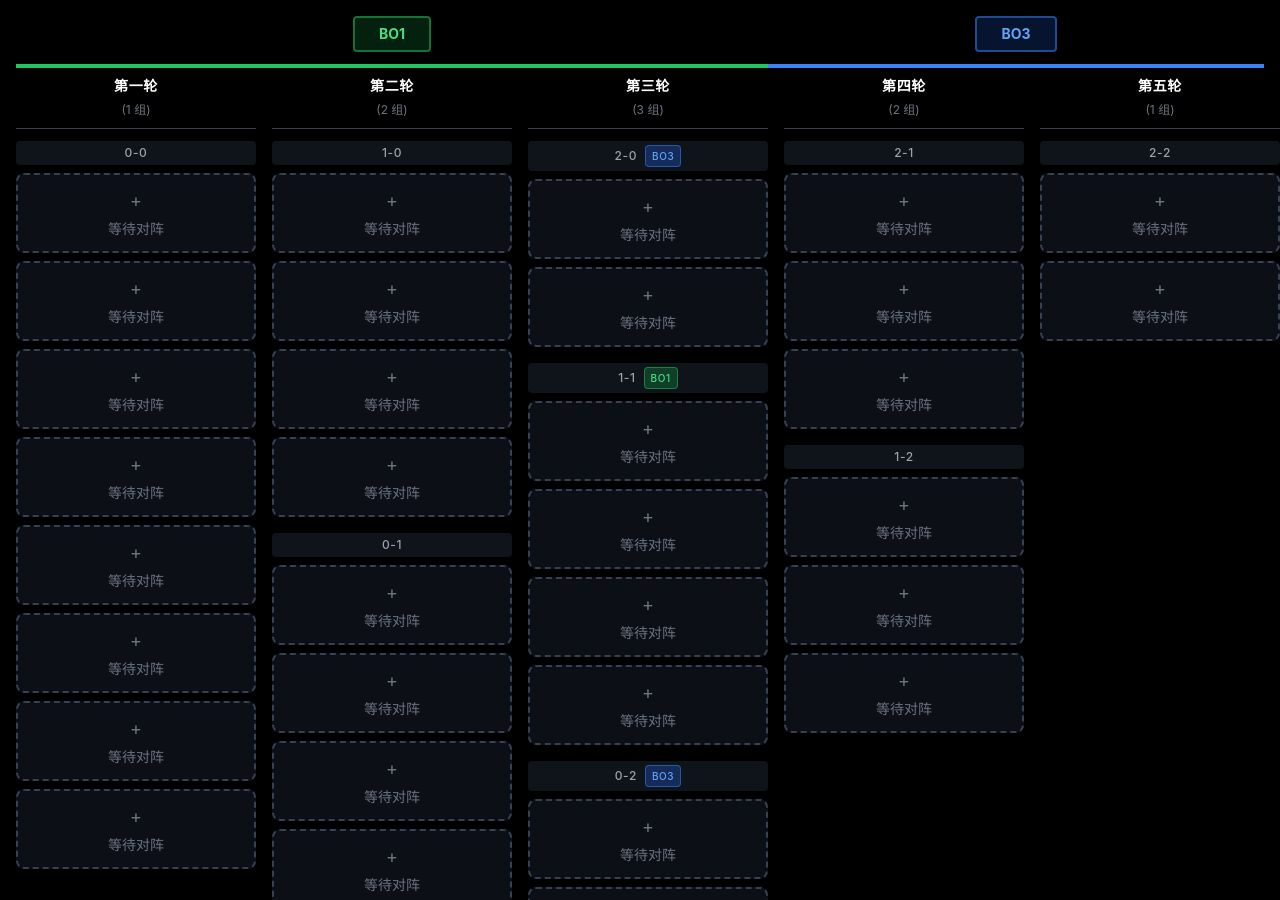
SwissStageVisualEditor 点击编辑功能 › 点击空槽位且有onCreate时应弹出编辑界面
Expected: the 1st text "等待对阵" is shown, x1=108 y1=220 x2=164 y2=237
Click the 1st element showing "+ 等待对阵" at (136, 213), box x1=16 y1=173 x2=256 y2=253
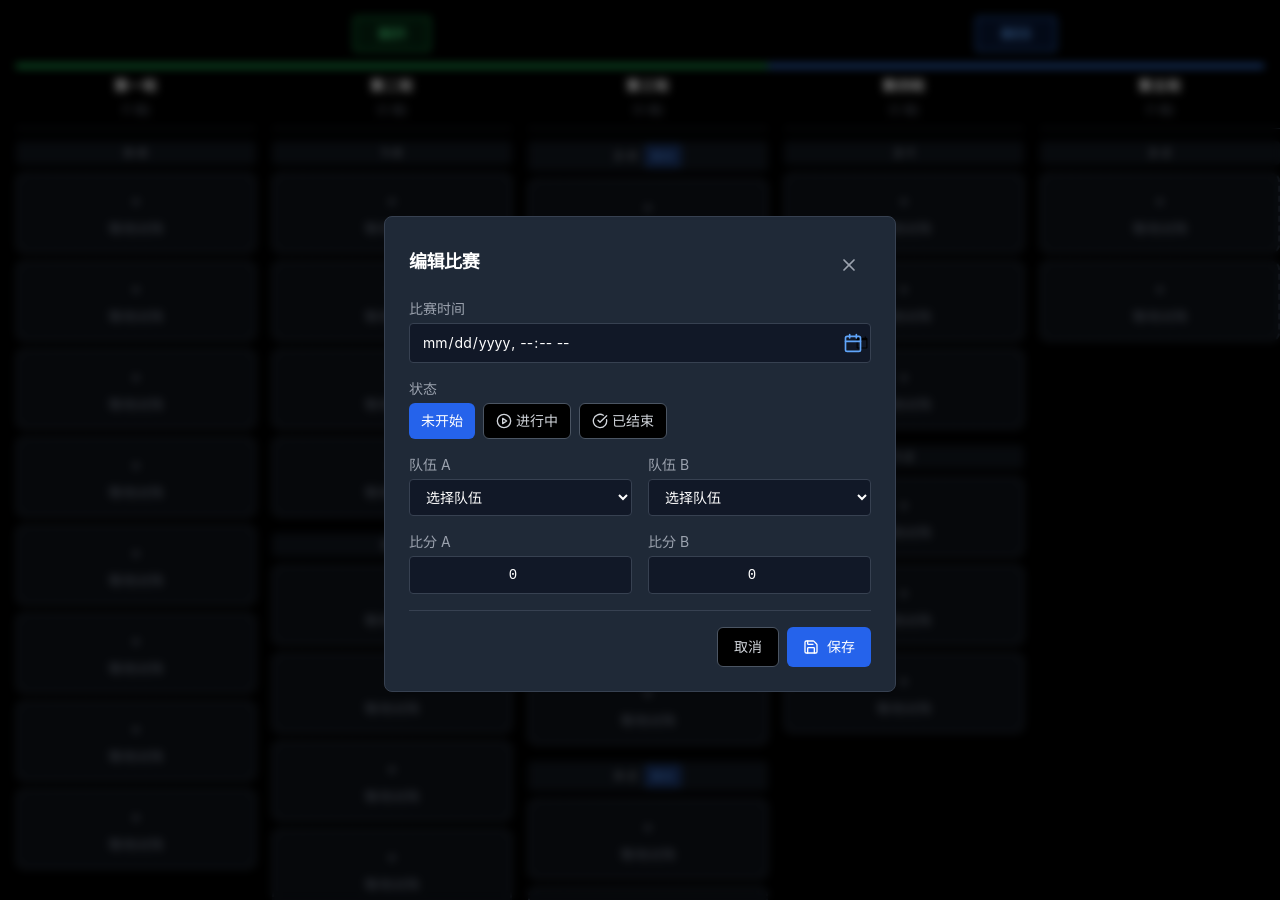
Now the button "保存" is shown, box x1=787 y1=627 x2=871 y2=667
Now the button "取消" is shown, box x1=717 y1=627 x2=779 y2=667
